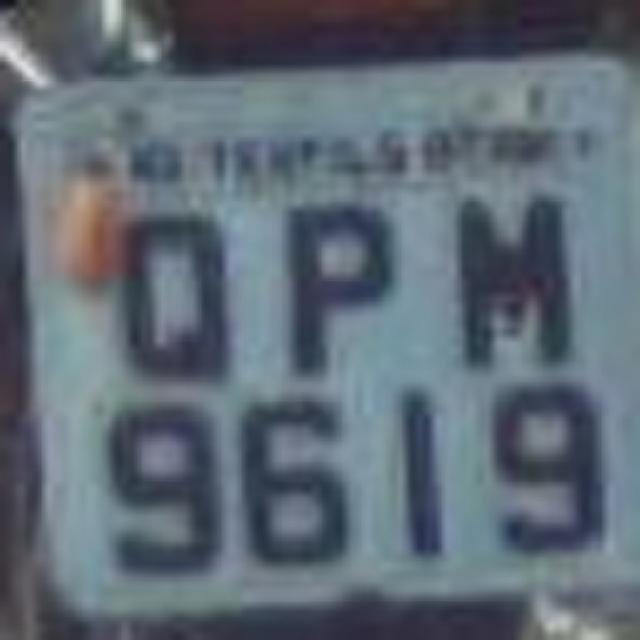1: (380, 380, 455, 555)
6: (212, 375, 368, 580)
9: (76, 384, 236, 584), (472, 369, 612, 576)
M: (428, 168, 588, 384)
P: (276, 180, 409, 388)
